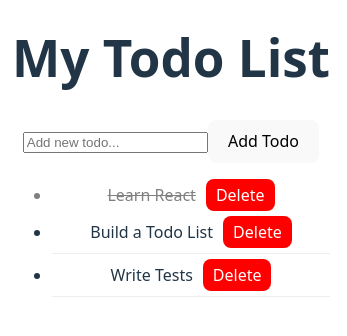
it: allows a user to add a new todo
Type "Walk the dog" into the field with placeholder "Add new todo...". click: (115, 143)
box: left=23, top=132, right=208, bottom=154
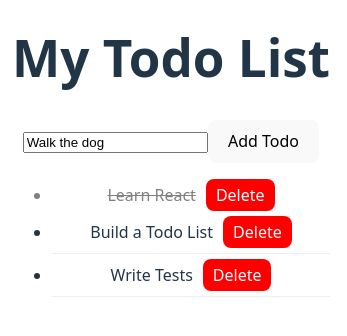
Click the button "Add Todo". click: (264, 142)
box: left=208, top=120, right=319, bottom=163
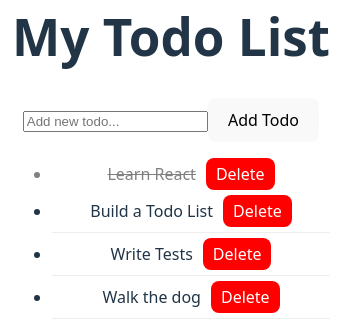
Expected: the list item "Walk the dog" is shown, left=102, top=286, right=201, bottom=308
Expected: the field with placeholder "Add new todo..." is empty, left=23, top=111, right=208, bottom=132
